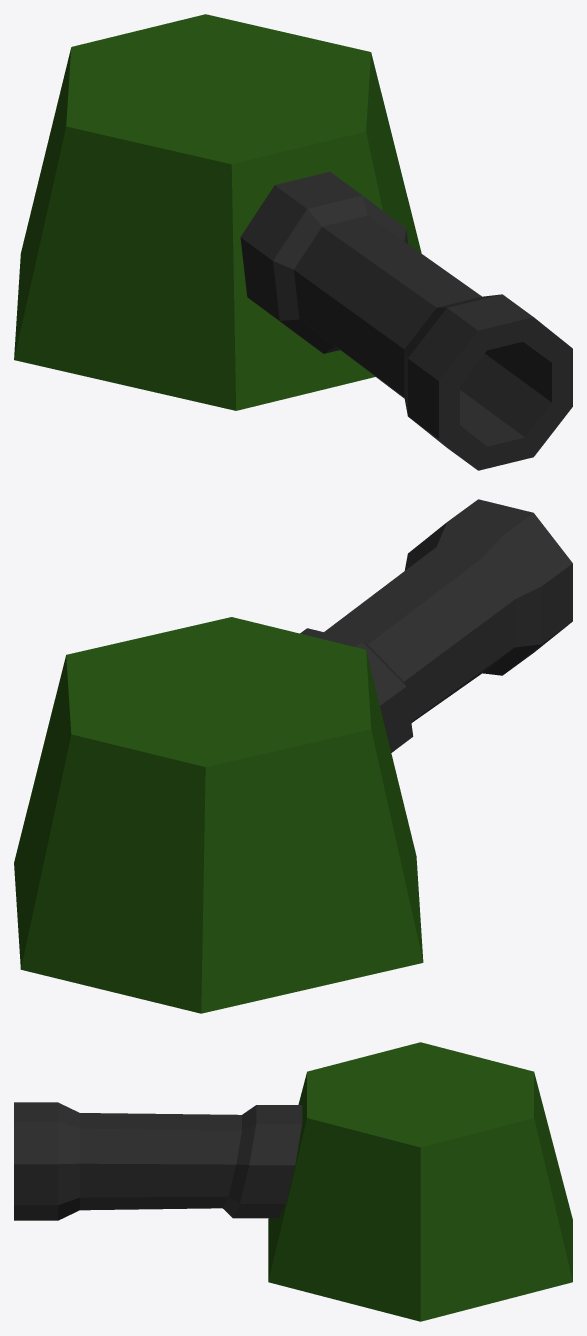
The model's file is TankTurret.fbx.
3 views of the same model, one above another, from view 1: azimuth 30°, elevation 25°; view 2: azimuth 150°, elevation 25°; view 3: azimuth 270°, elevation 25° (orthographic). The views are drawn at different scales.
Visible parts, largest first — view 1: Tank Turret; view 2: Tank Turret; view 3: Tank Turret.
Boxes of the visible parts, box(x1,y1,x2,y2) form: Tank Turret: box(14, 14, 572, 470); Tank Turret: box(14, 499, 572, 1013); Tank Turret: box(14, 1042, 572, 1321).
Bounding box in the file's own units: 68.61 × 35.37 × 115.
